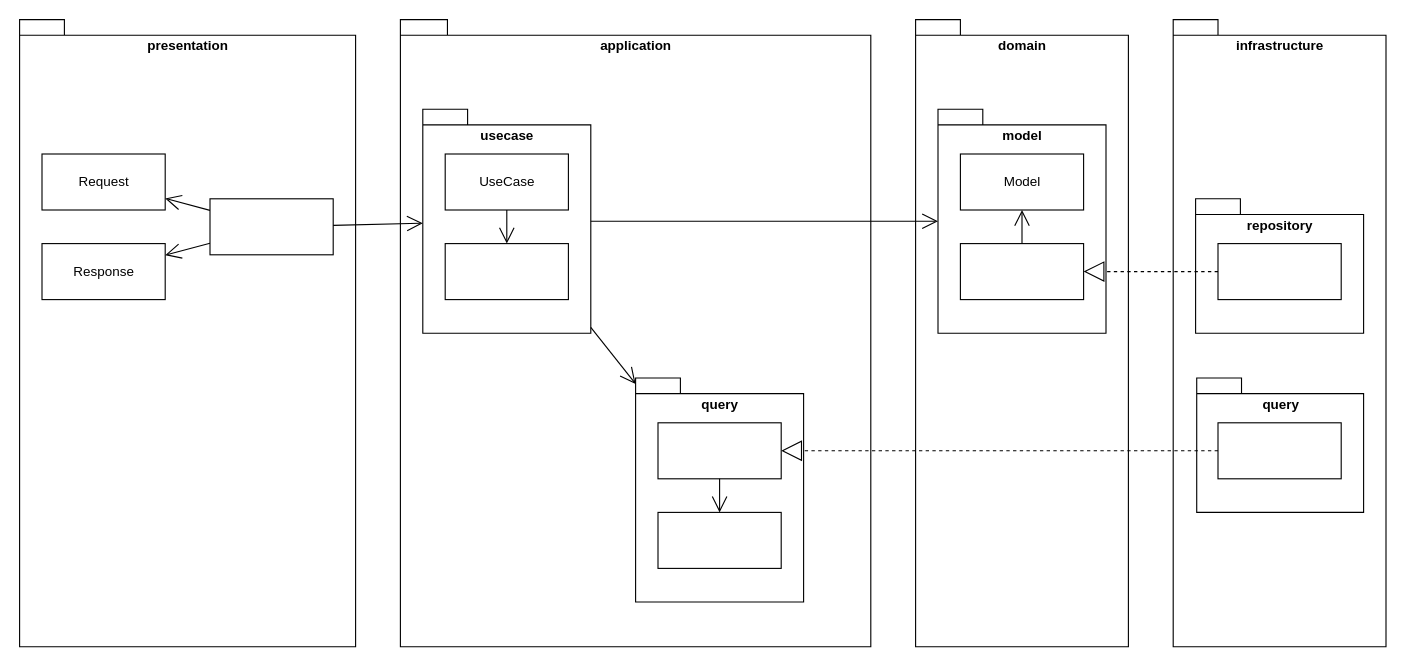
The diagram is 1406 pixels wide and 666 high, and some of its shapes have lost their labels. Here are the shapes that lost their labels. From the top down, the centre of each, then its label:
point (271, 226): Router
point (506, 271): Output
point (1021, 271): << interface >> Repository
point (1279, 271): MySQL Repository
point (719, 450): << interface >> QueryService
point (1279, 450): MySQL QueryService
point (719, 539): QueryModel
